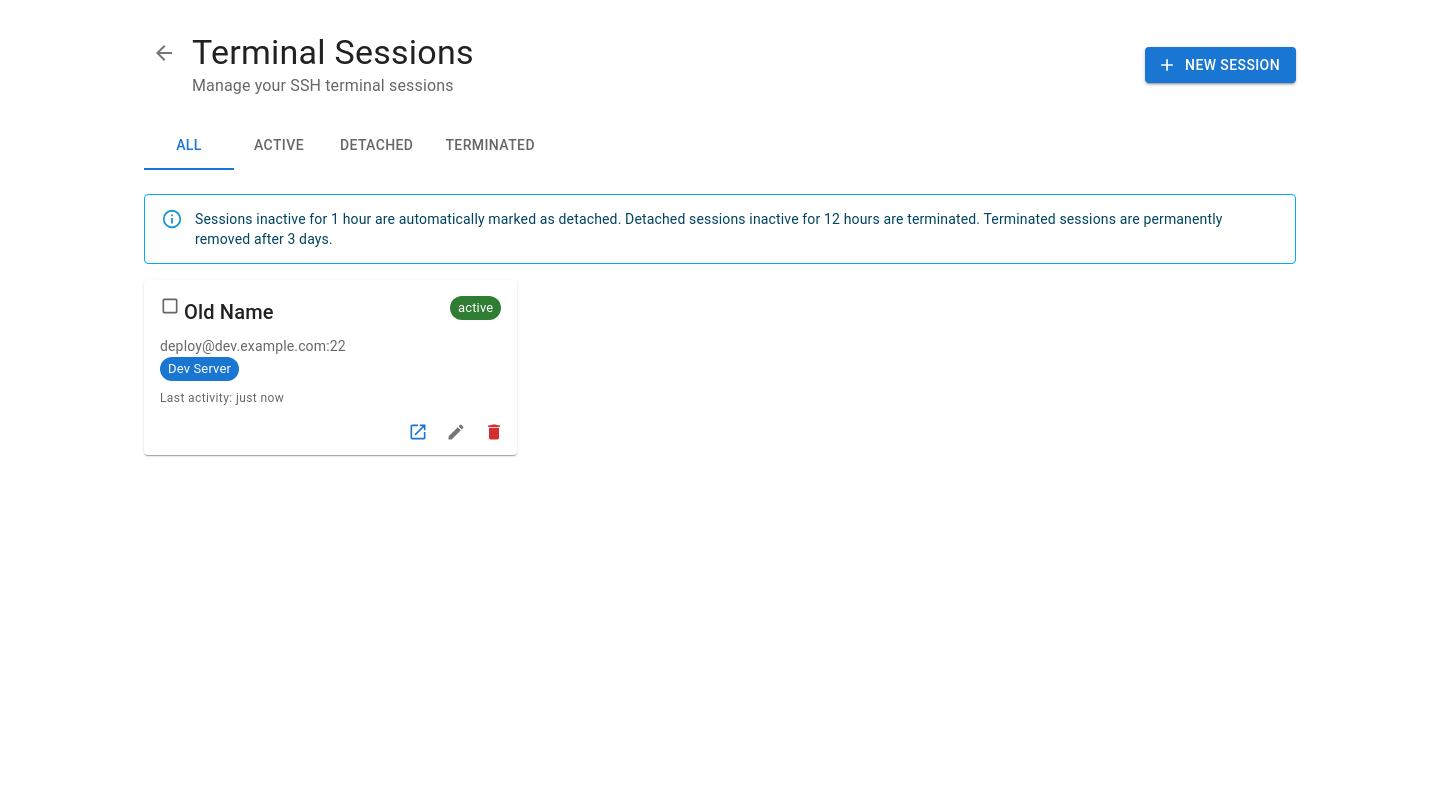
Test: SessionsPage › Rename session › should show error snackbar when rename fails
Click the button with test id "EditIcon". click: (456, 432)
box: [441, 417, 471, 447]
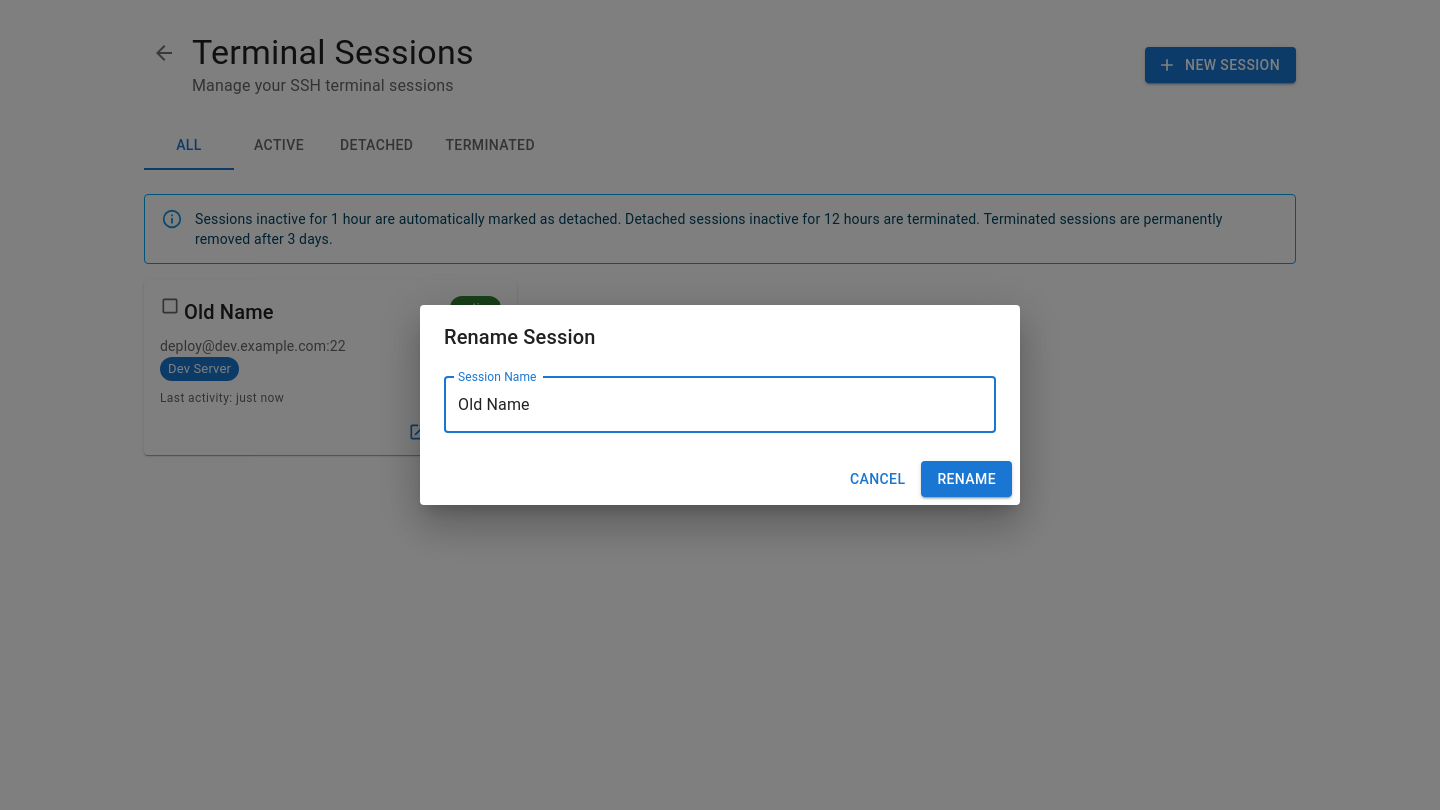
Replace the text in the field labelled "Session Name" with "New Name". click: (720, 405)
box: [444, 377, 996, 433]
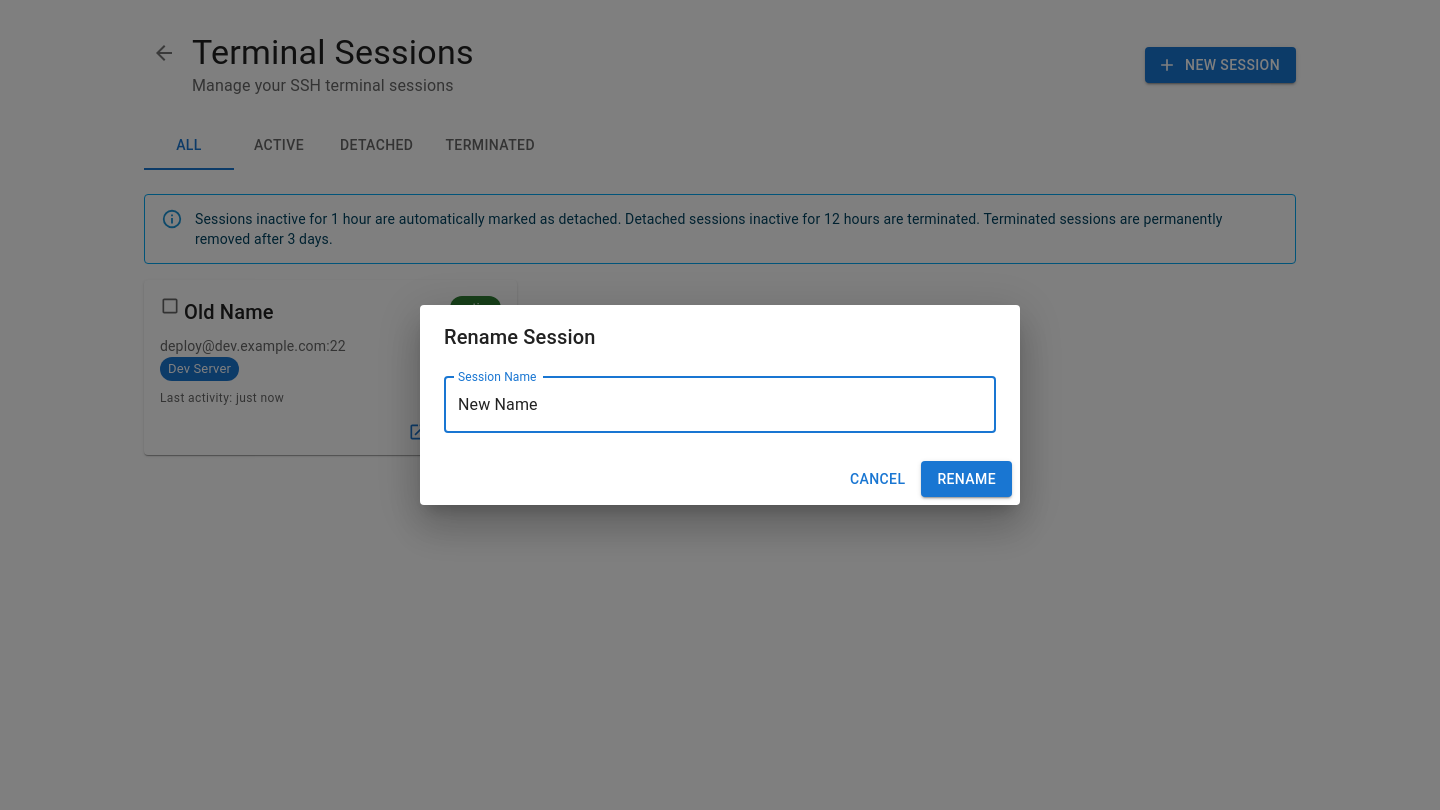
Click the button "Rename". click: (967, 479)
box: [921, 461, 1012, 497]
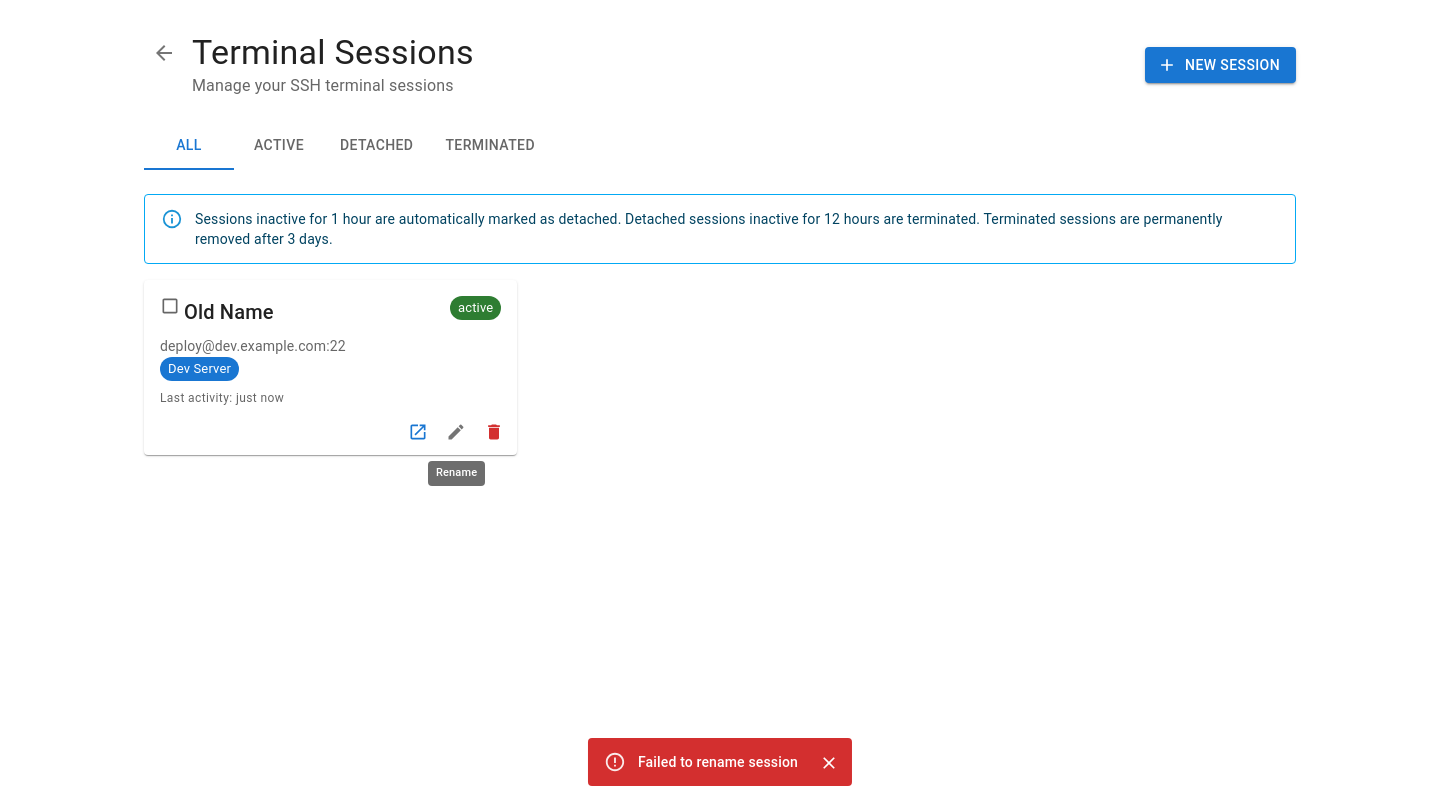
Now the text "Failed to rename session" is shown, box [638, 754, 798, 770]
